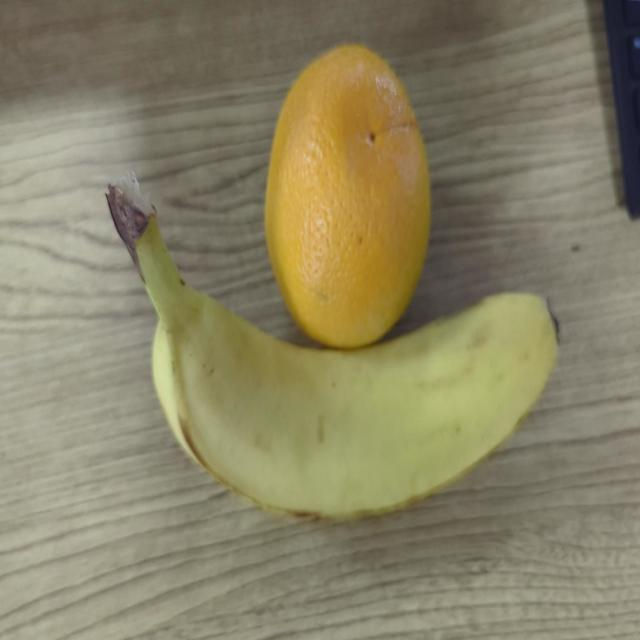Jeruk: (259, 29, 436, 352)
Pisang: (84, 200, 584, 524)
